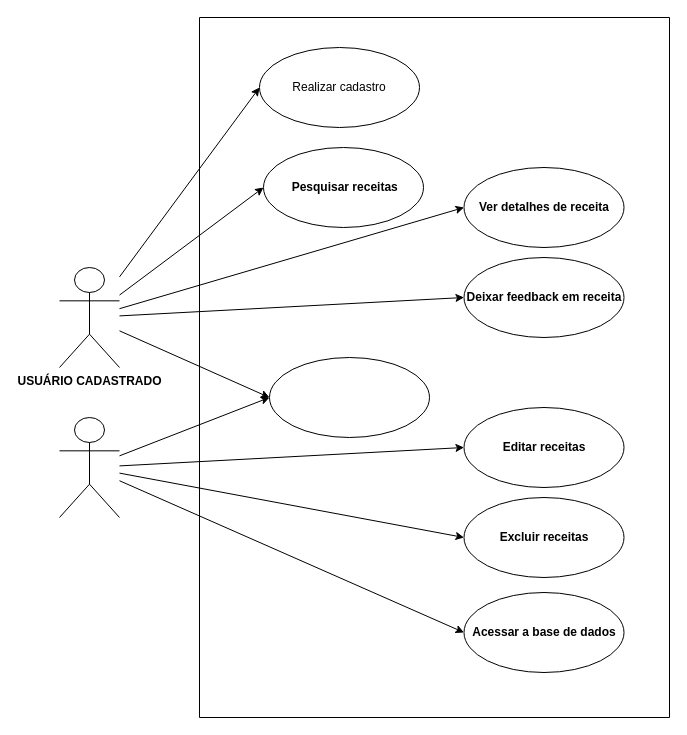
This 687x735 diagram has some shape labels left out. Here are the shapes that lost their labels. From the top down, the centre of each, then its label:
[349,397]: Fazer login
[89,467]: ADMIN
